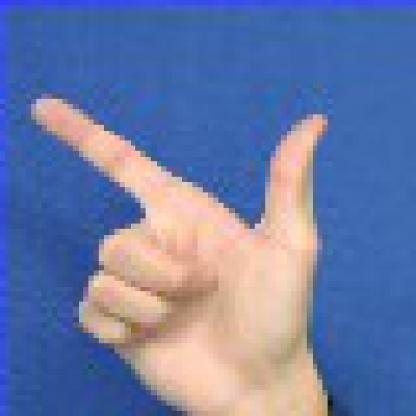seven: (11, 67, 354, 410)
